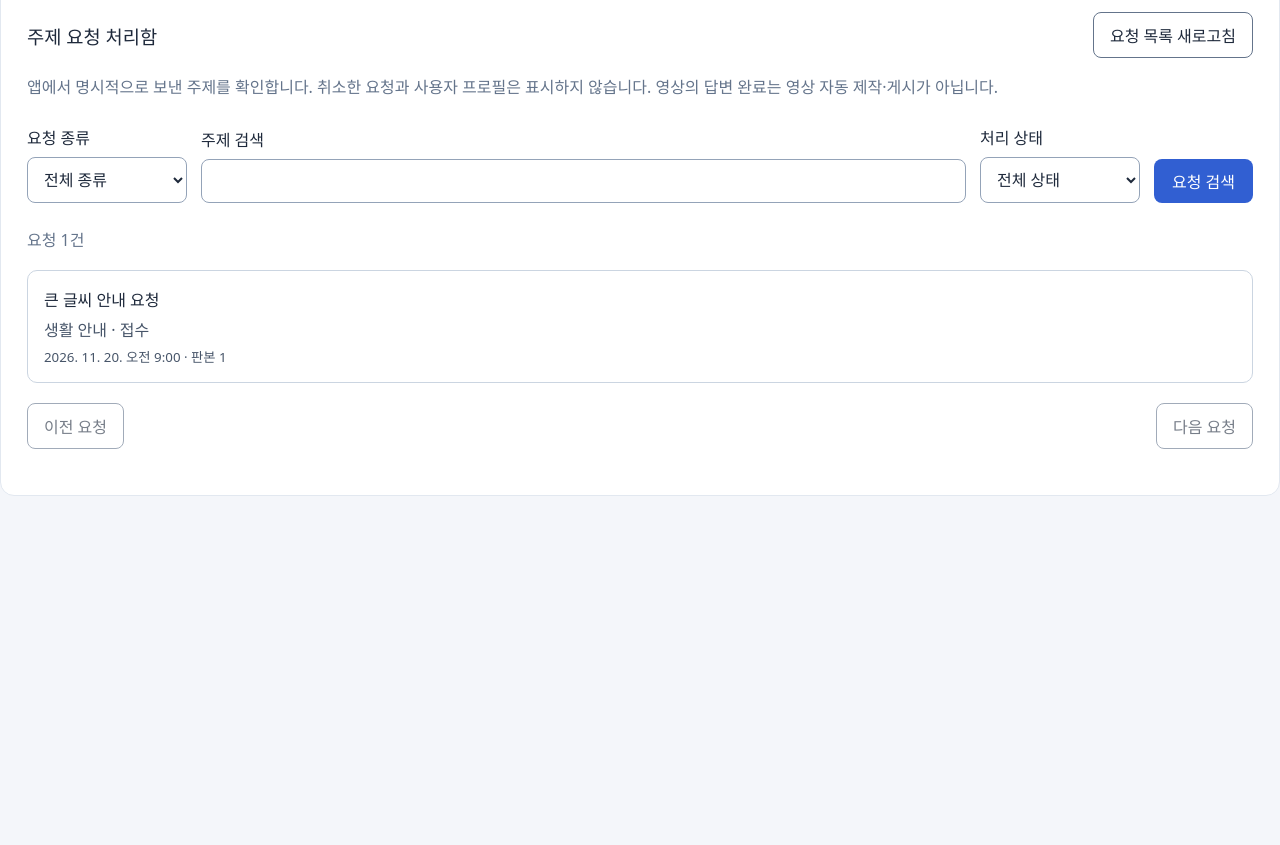
Test: 서버가 저장했지만 응답을 잃으면 자동 재전송 없이 최신 조회로 확인한다
The width and height of the screenshot is (1280, 845).
Click the button "큰 글씨 안내 요청": (102, 300) [27,270,1253,383]
(page scrolled)
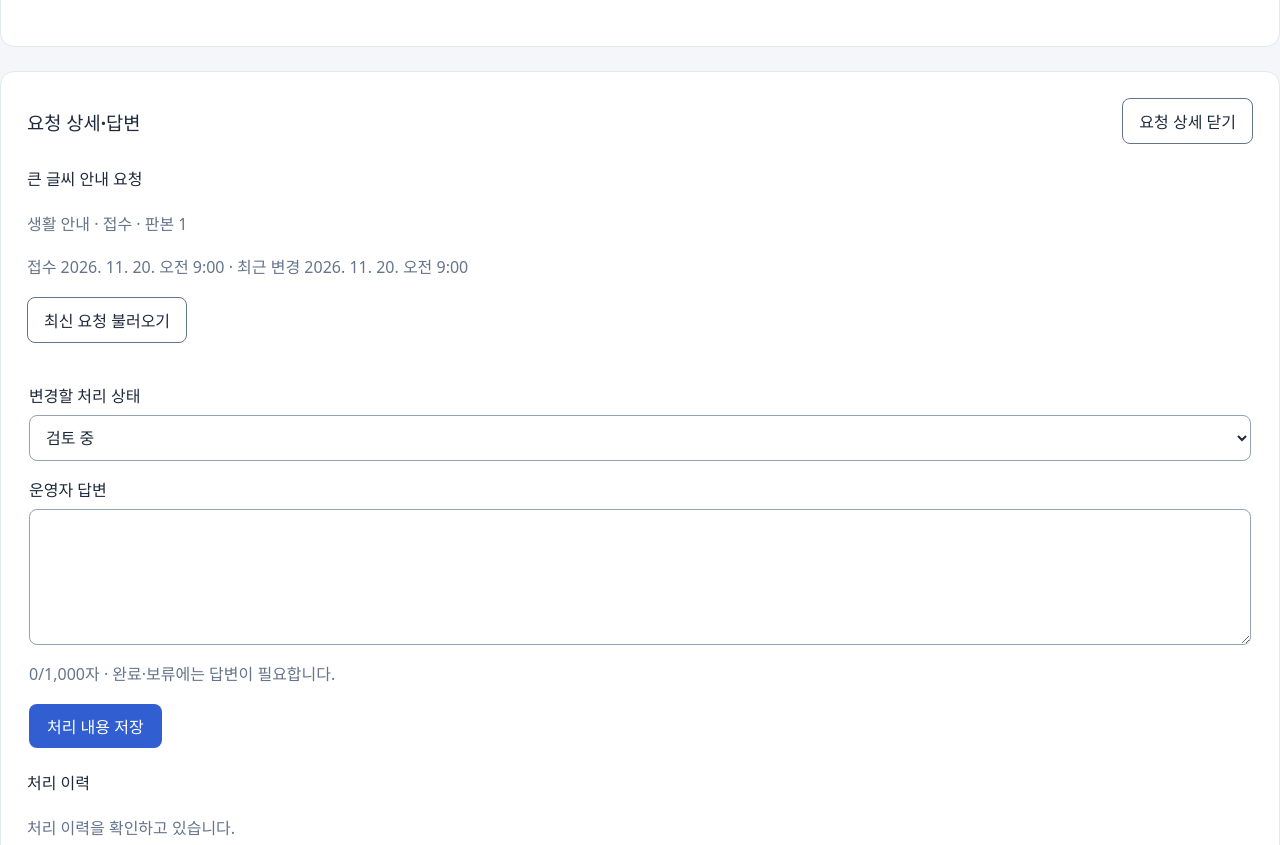
Result: the text box labelled "운영자 답변" is shown
In the text box labelled "운영자 답변": (640, 577) [29,509,1251,645], type "서버에 저장된 답변"
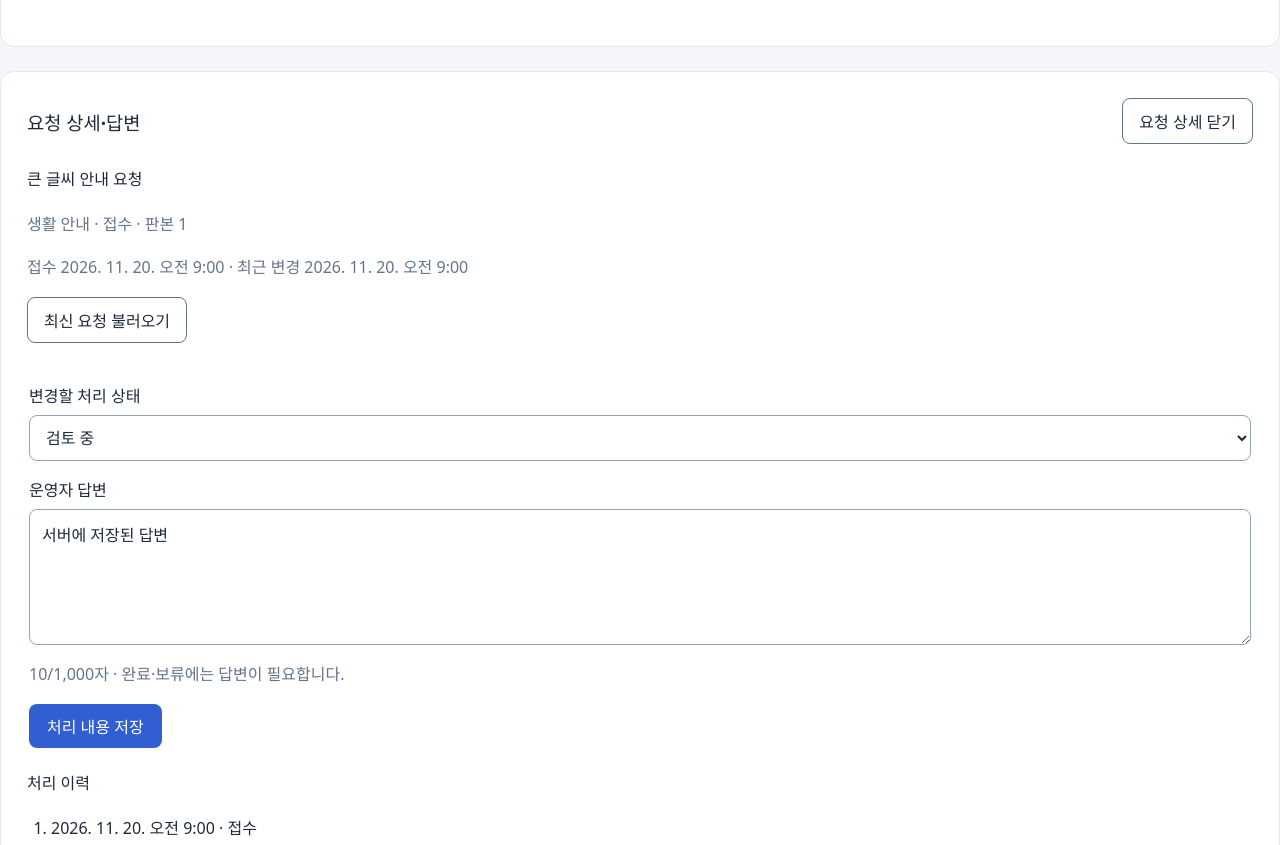
Click the button "처리 내용 저장": (95, 726) [29,704,162,748]
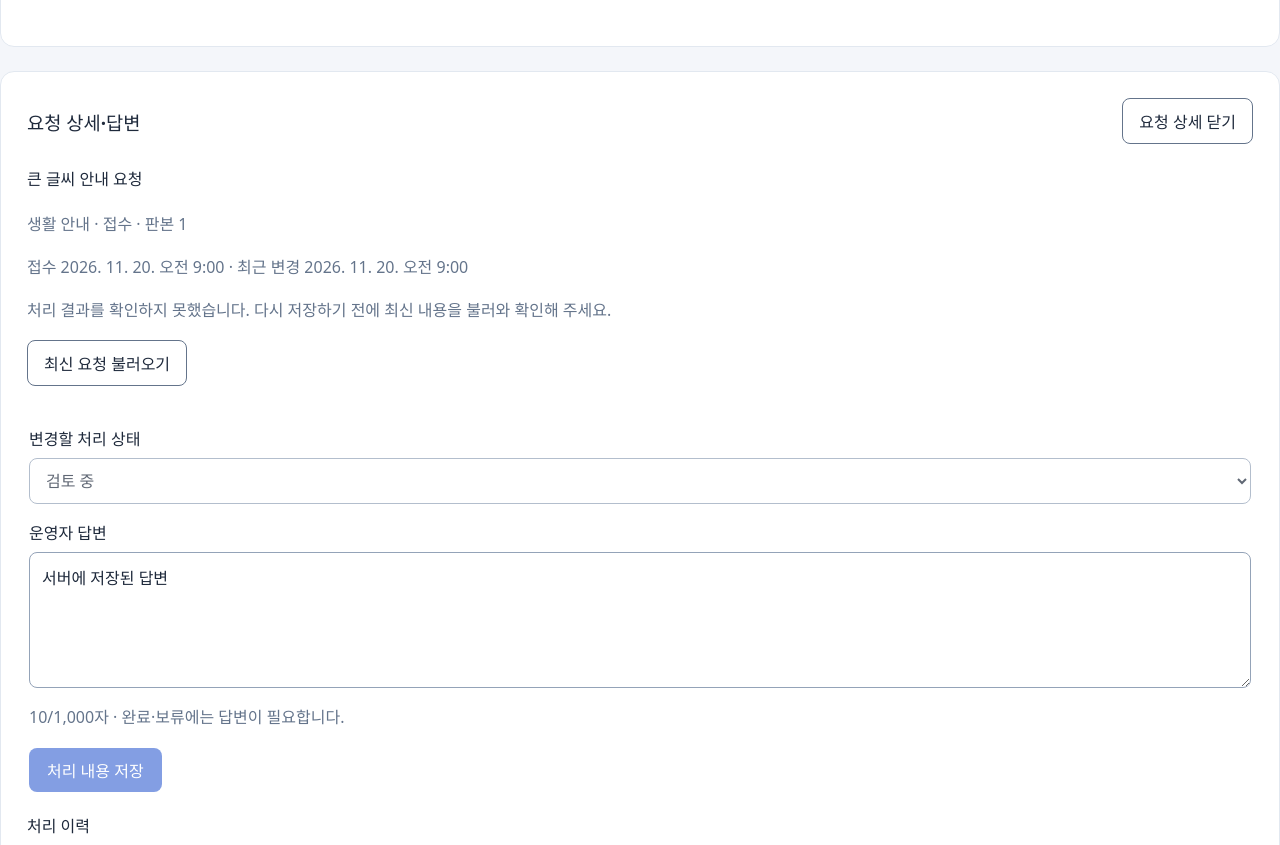
Result: the button "처리 내용 저장" is disabled at [29,748,162,792]
Click the button "최신 요청 불러오기": (107, 364) [27,340,187,386]
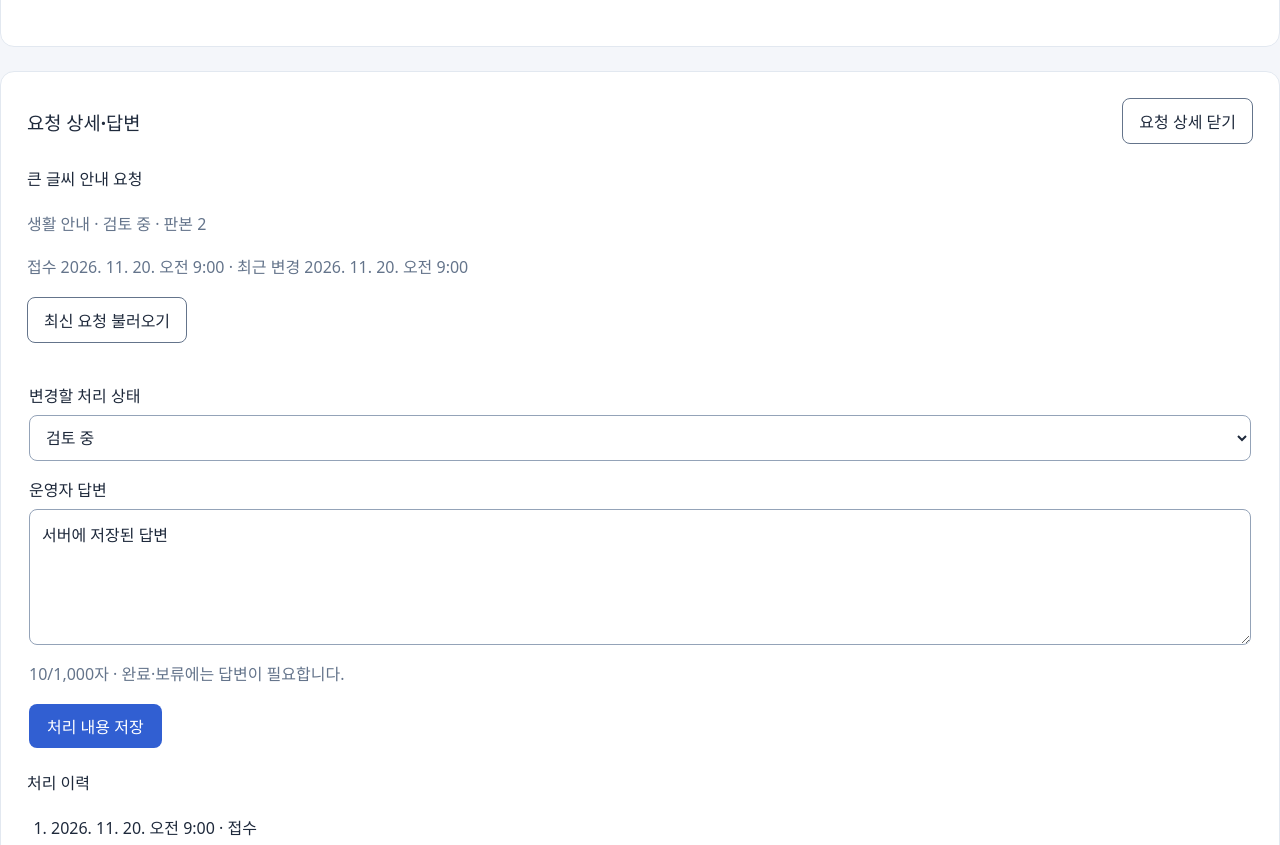
Result: the text box labelled "운영자 답변" holds "서버에 저장된 답변" at [29,509,1251,645]
Result: the button "처리 내용 저장" is enabled at [29,704,162,748]
